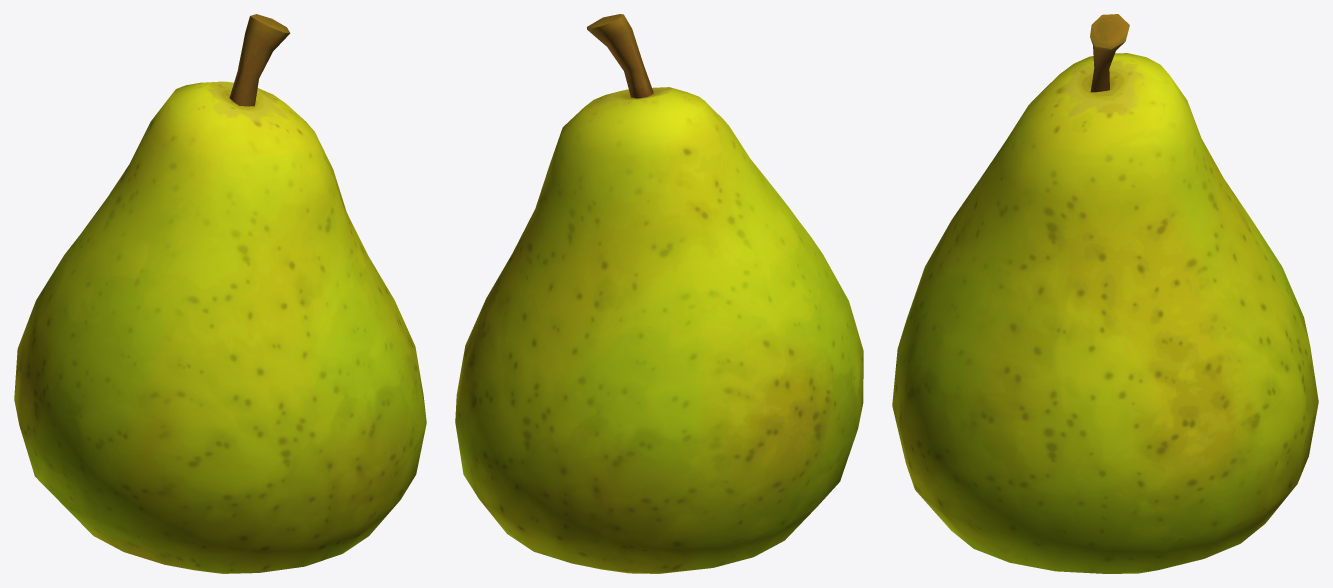
The model's file is SM_PearGreen.fbx.
3 renders of one model, left to right at view 1: azimuth 30°, elevation 25°; view 2: azimuth 150°, elevation 25°; view 3: azimuth 270°, elevation 25°, orthographic. The views are drawn at different scales.
Parts seen in each view (by area): view 1: SM_PearGreen; view 2: SM_PearGreen; view 3: SM_PearGreen.
Part boxes in pixels (x1=…): SM_PearGreen: x1=14, y1=14, x2=426, y2=573; SM_PearGreen: x1=455, y1=14, x2=863, y2=573; SM_PearGreen: x1=892, y1=14, x2=1318, y2=573.
Bounding box in the file's own units: 13.47 × 18.63 × 13.34.
